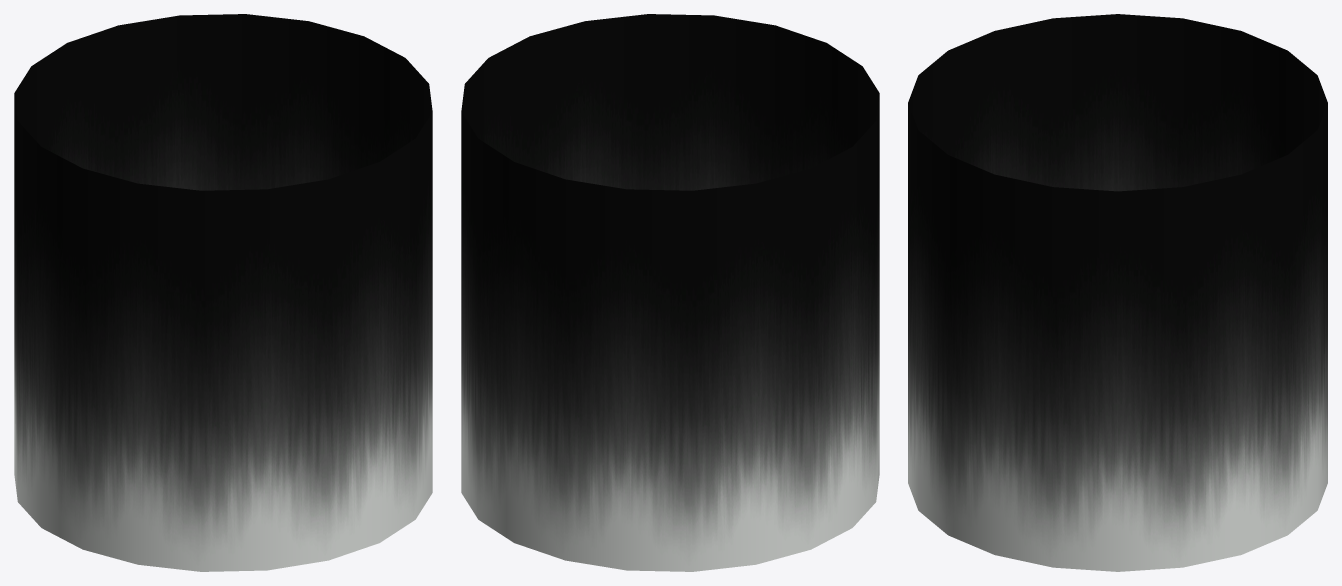
File: jingjitai.FBX
The picture shows the model from 3 angles, left to right: view 1: azimuth 30°, elevation 25°; view 2: azimuth 150°, elevation 25°; view 3: azimuth 270°, elevation 25°; orthographic projection.
Visible parts, largest first — view 1: jingjitai; view 2: jingjitai; view 3: jingjitai.
Part boxes in pixels (x1,y1,x2,y2): jingjitai: [14, 14, 432, 571]; jingjitai: [461, 14, 879, 571]; jingjitai: [908, 14, 1327, 571].
Size of the model in its own units: 100 by 100 by 100.
